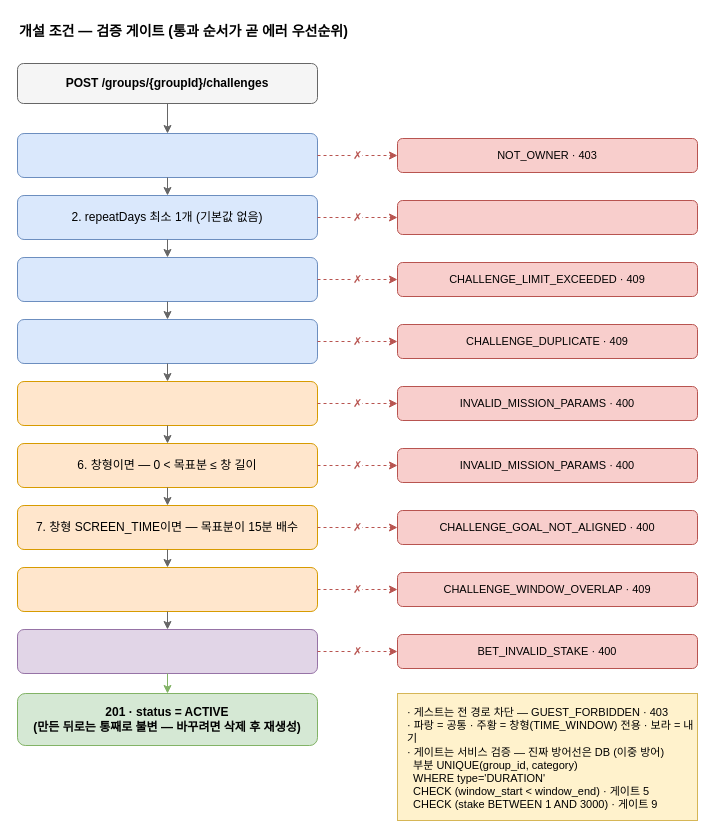
Some shapes in this 715 by 838 pixel diagram are drawn without their labels. Each missing label, with the centre of its shape:
"1. 그룹 OWNER인가" belongs at pixel 167 155.
"3. 활성 챌린지 < 4개" belongs at pixel 167 279.
"4. 하루형이면 — 같은 카테고리 활성 챌린지 없음" belongs at pixel 167 341.
"5. 창형이면 — 시작 < 종료 (자정을 걸칠 수 없다)" belongs at pixel 167 403.
"8. 창형이면 — 기존 창과 안 겹침 (요일 교집합 ≠ ∅ ∧ 간격 < 15분 → 겹침)" belongs at pixel 167 589.
"9. 내기를 켰다면 — 1 ≤ 참가비 ≤ 3,000 (프리셋 = 상한의 10/30/50/100% · 자유 입력)" belongs at pixel 167 651.
"CHALLENGE_REPEAT_DAYS_REQUIRED · 400" belongs at pixel 547 217.
